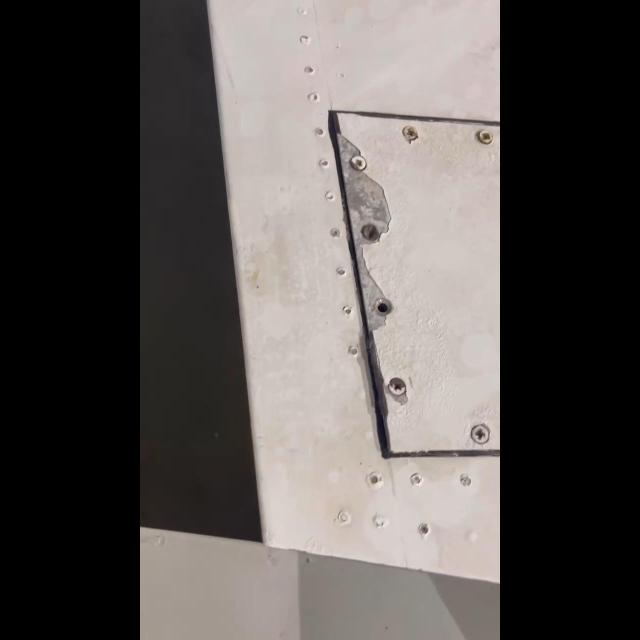Missing Fastener: (371, 298, 391, 316)
